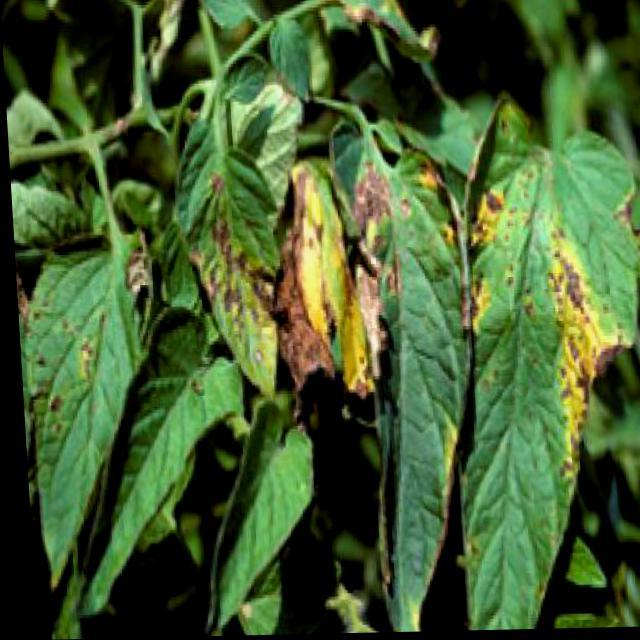Tomato late blight leaf: (432, 92, 639, 631), (334, 132, 480, 632), (12, 225, 161, 605), (168, 93, 278, 420)
